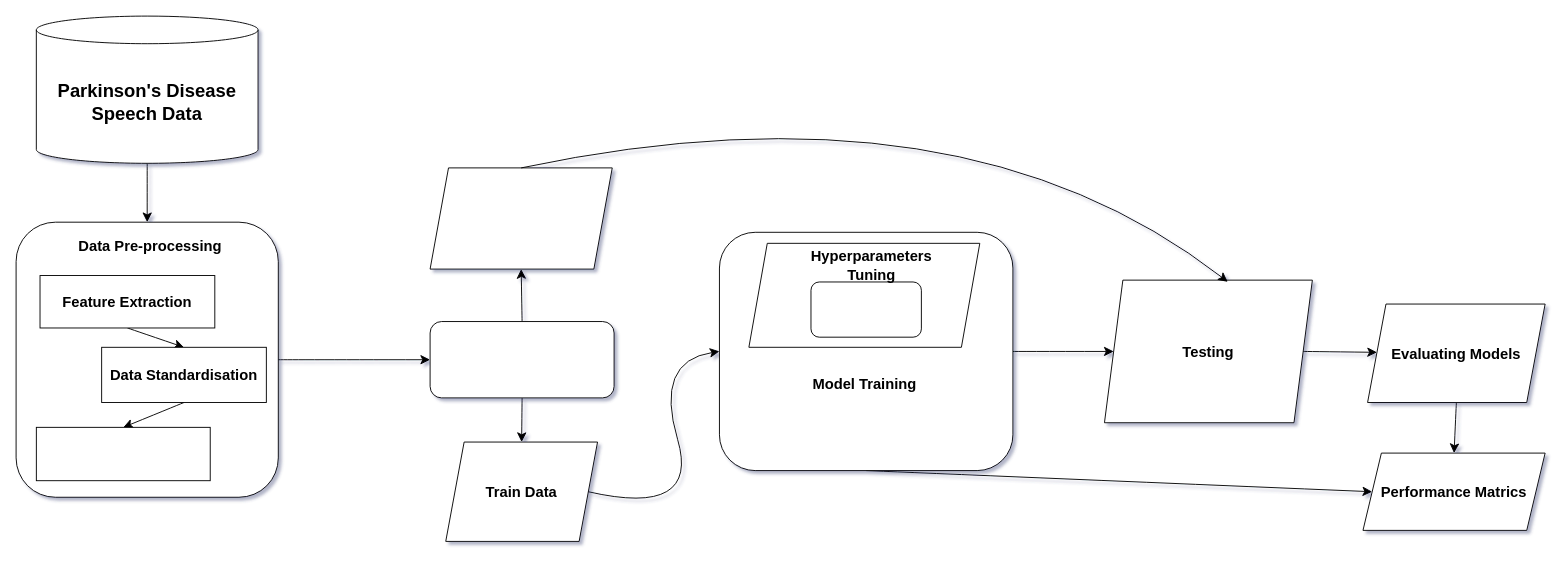
The diagram is 1567 pixels wide and 563 high, and some of its shapes have lost their labels. Each missing label, with the centre of its shape:
Grid Search: pixel 865 309
K-fold Cross Validation: pixel 521 359
Test Data: pixel 520 218
Transformation: pixel 122 453
